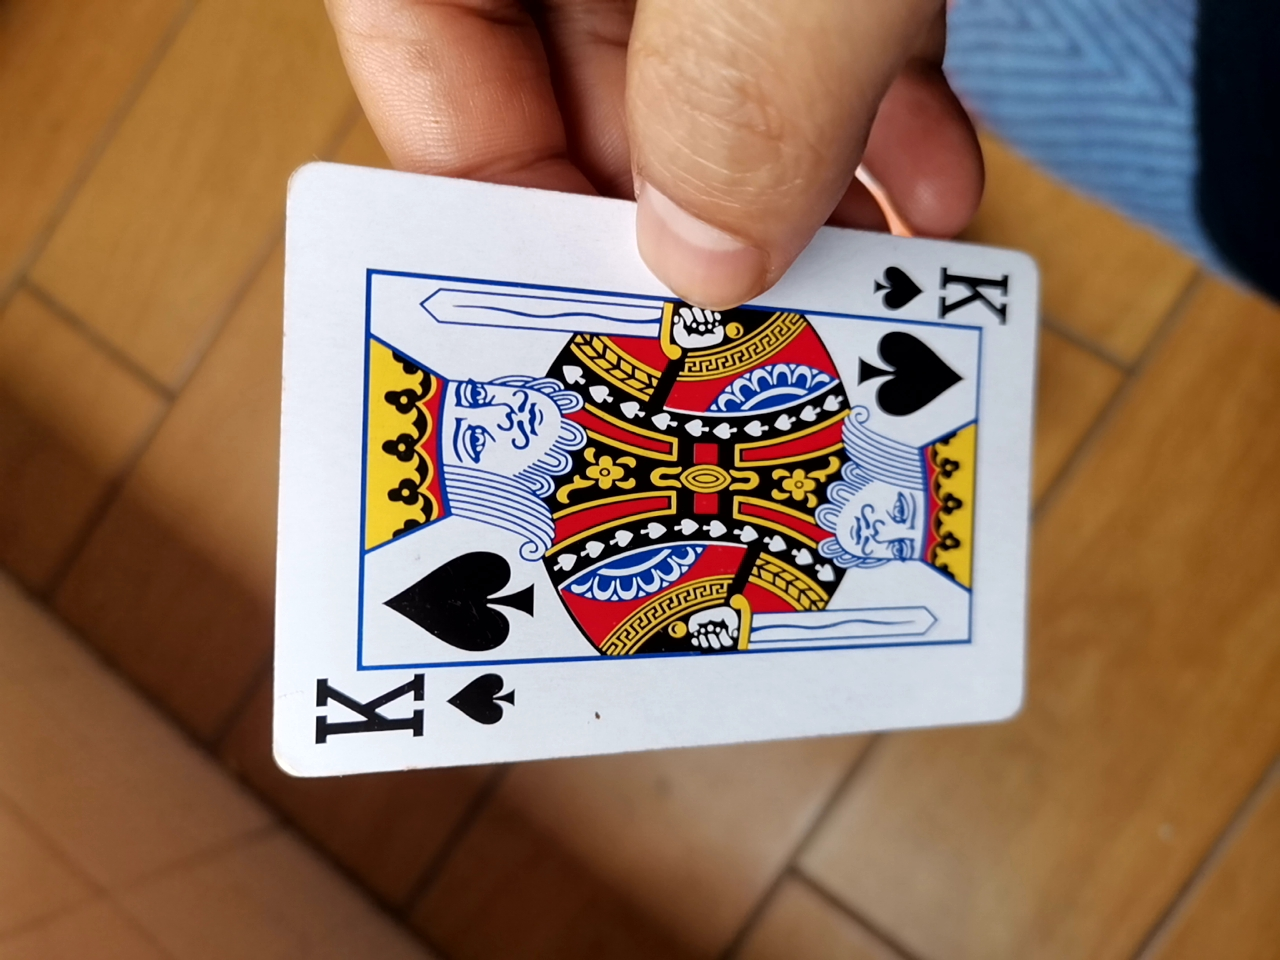ht k: (258, 173, 1040, 792)
